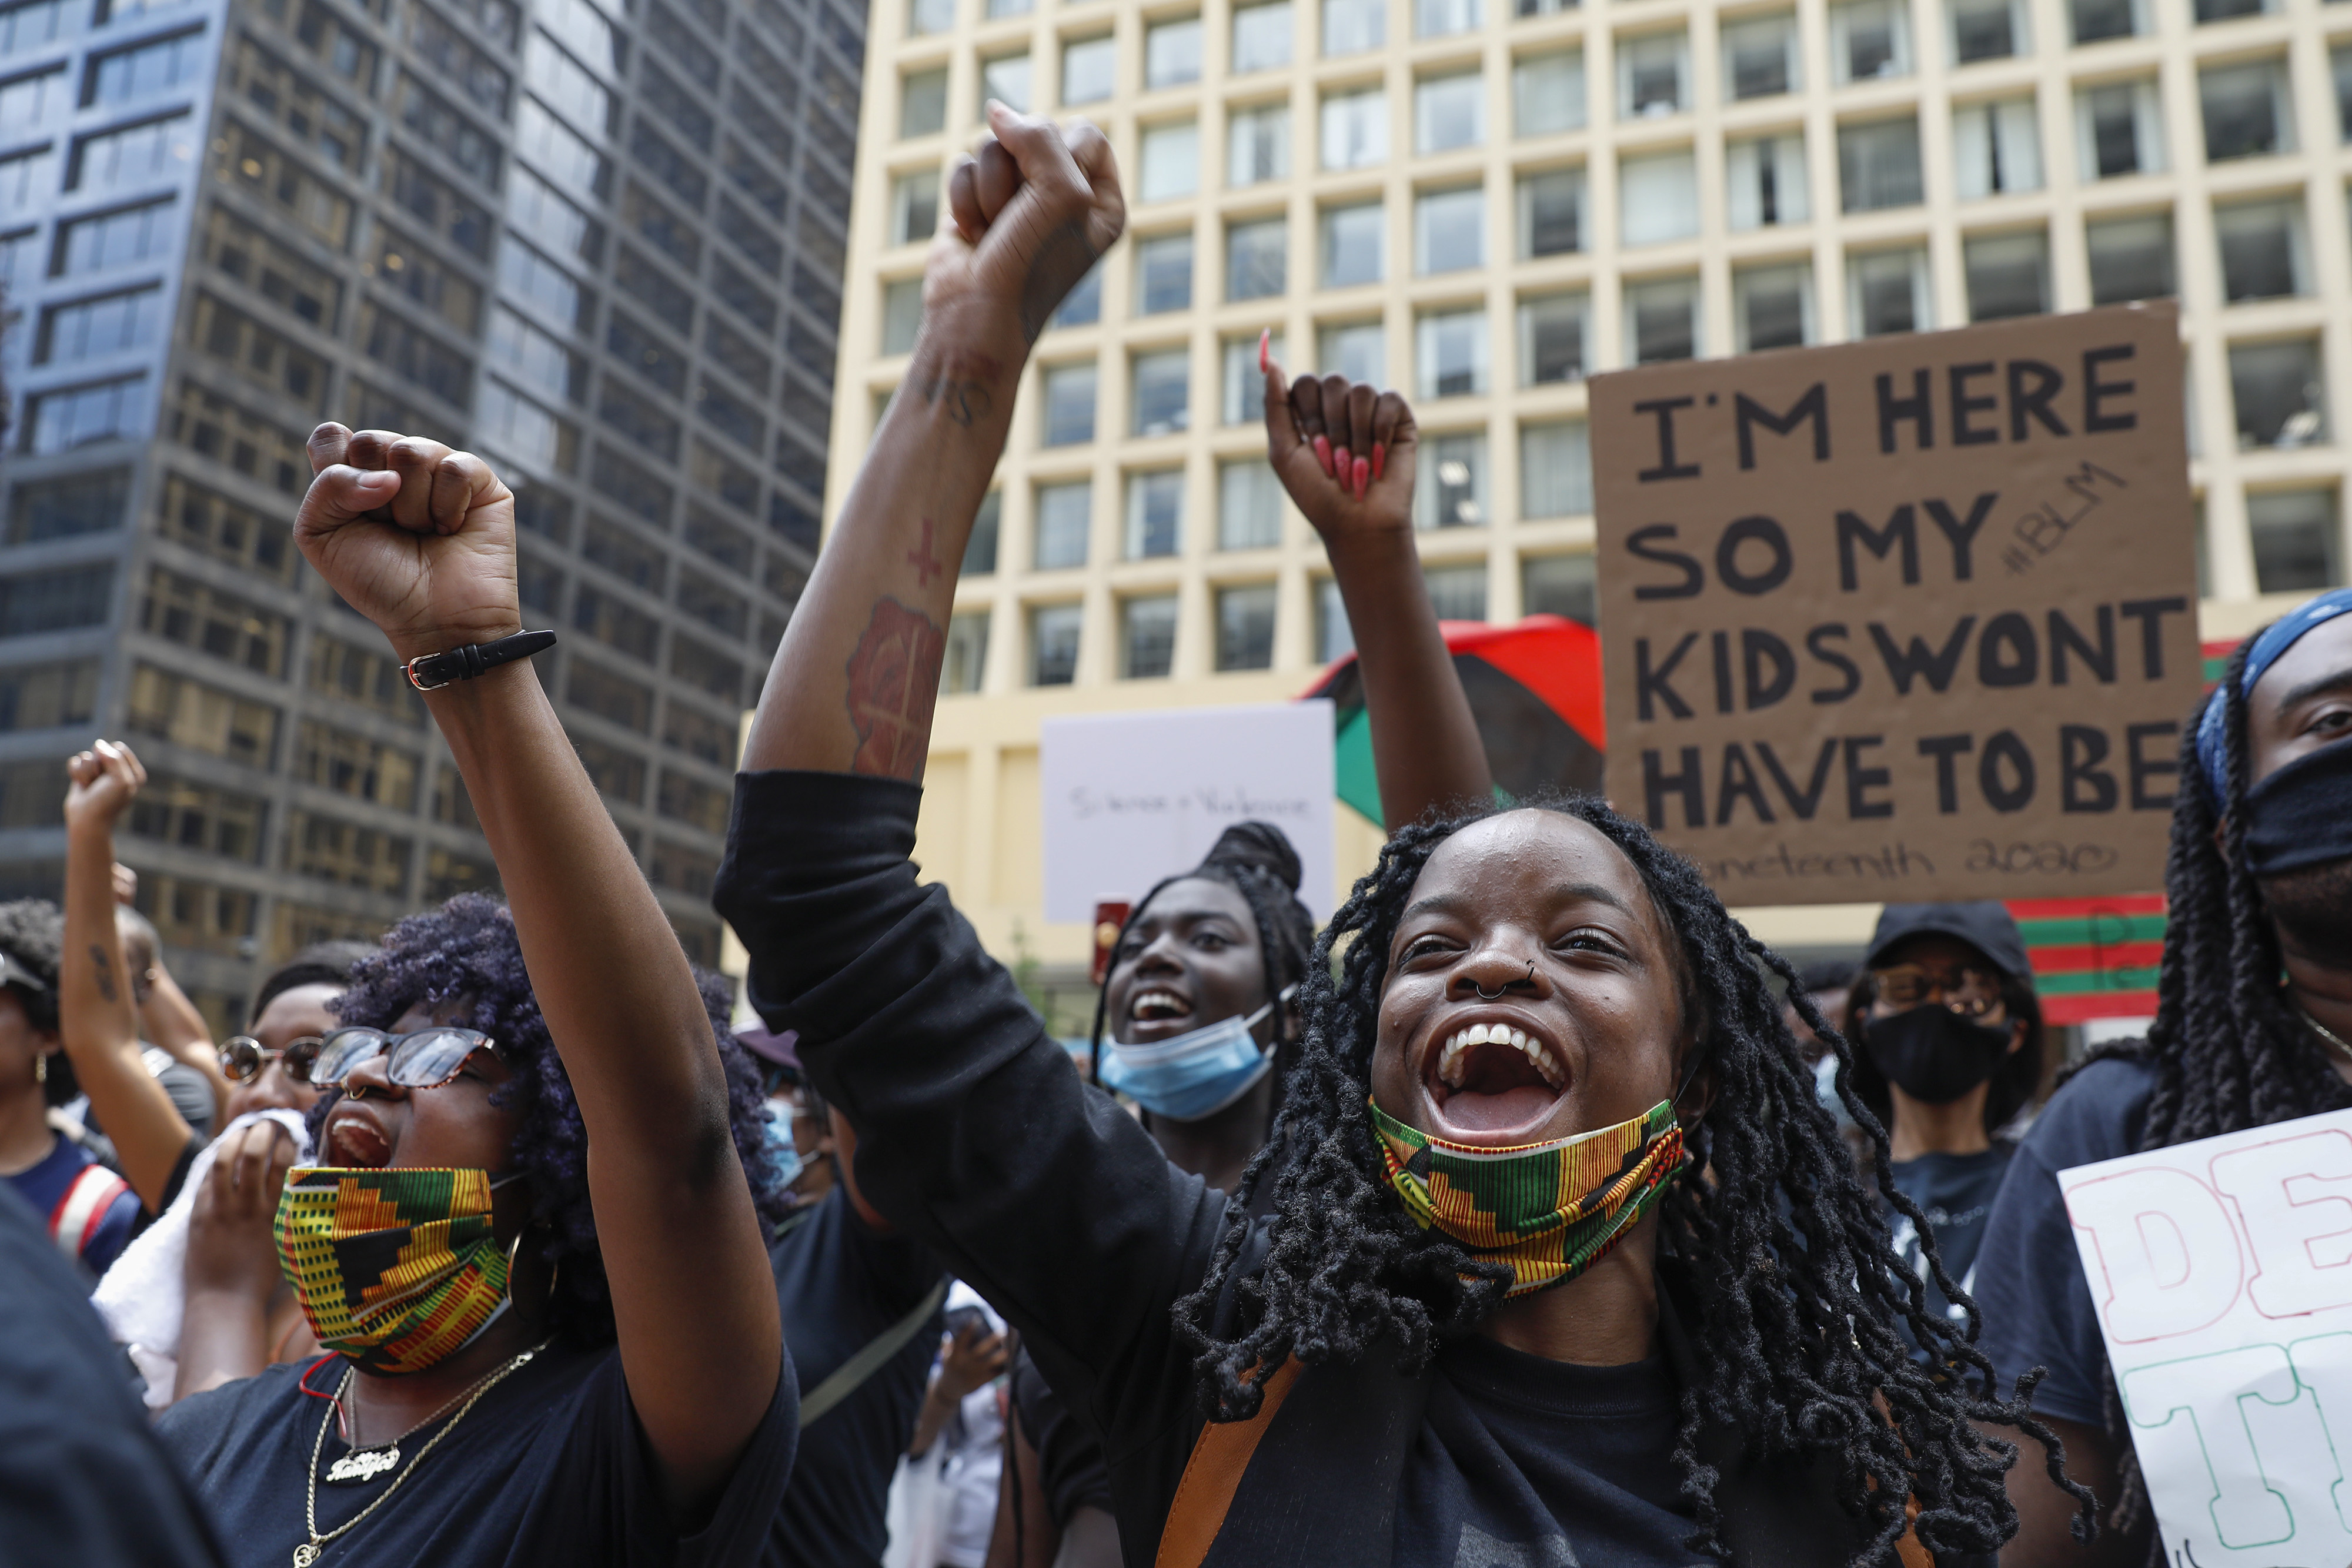with_incorrect_mask: (1091, 860, 1292, 1122)
without_mask: (1388, 846, 1656, 1261), (303, 1002, 519, 1304)
